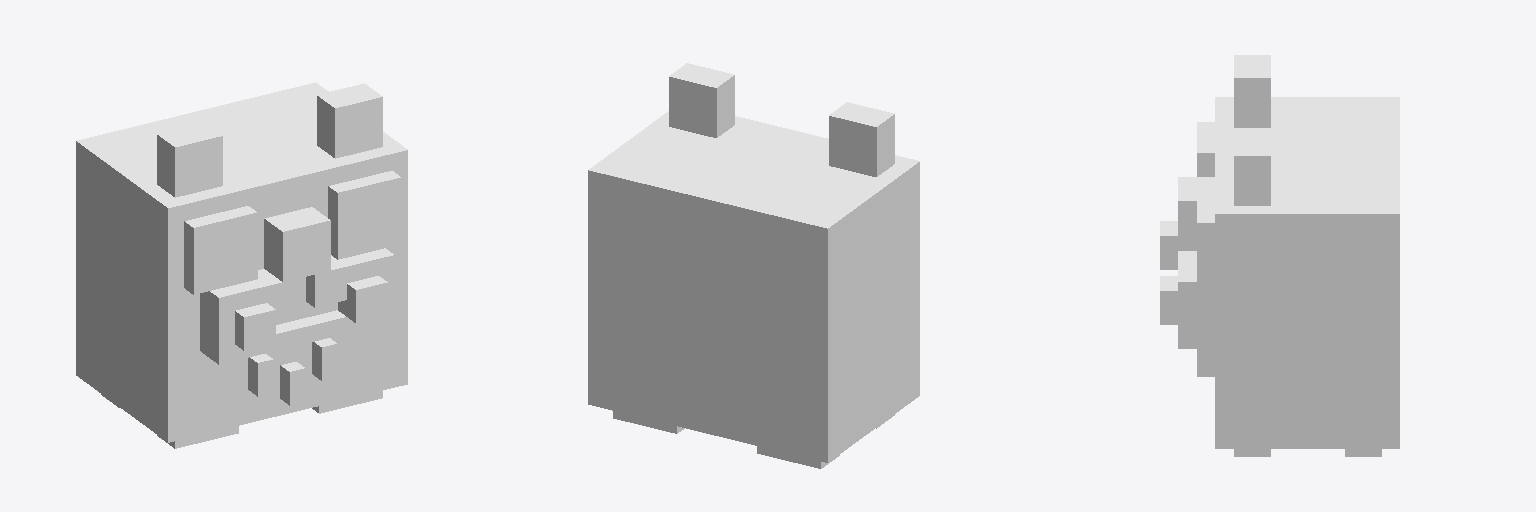
Rendered from Critter.obj.
3 views of the same model, side by side, from view 1: azimuth 30°, elevation 25°; view 2: azimuth 150°, elevation 25°; view 3: azimuth 270°, elevation 25° (orthographic).
Visible parts, largest first — view 1: model_Critter.obj; view 2: model_Critter.obj; view 3: model_Critter.obj.
Part boxes in pixels (x1,y1,x2,y2): model_Critter.obj: (76,82,407,448); model_Critter.obj: (588,63,919,468); model_Critter.obj: (1160,55,1399,456).
Bounding box in the file's own units: 15 × 18 × 13.